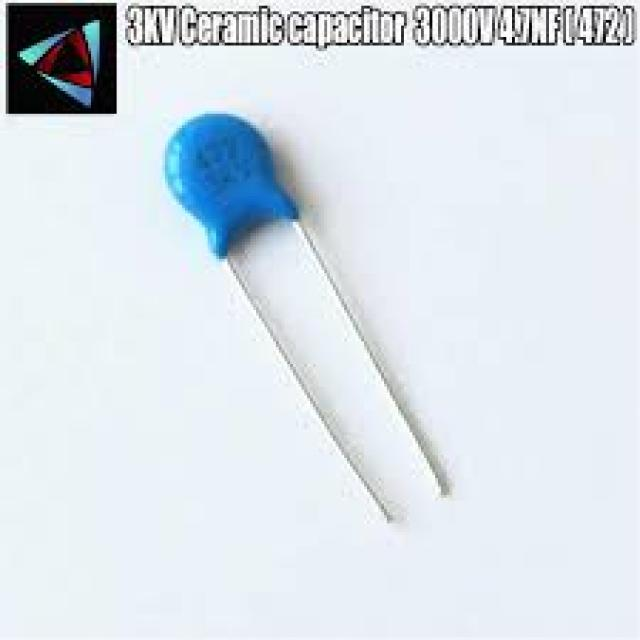Resistor: (162, 114, 302, 262)
